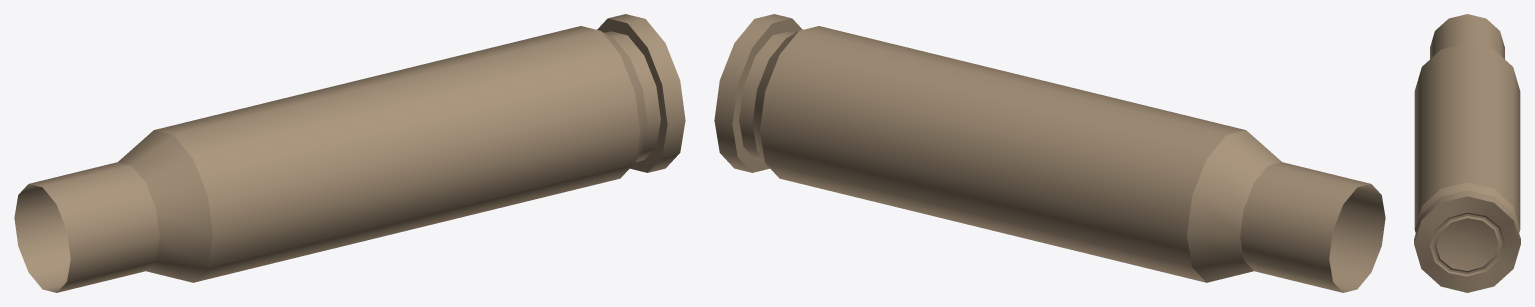
File: Scar_EmptyShell.fbx
3 views of the same model, side by side, from view 1: azimuth 30°, elevation 25°; view 2: azimuth 150°, elevation 25°; view 3: azimuth 270°, elevation 25° (orthographic). The views are drawn at different scales.
Parts seen in each view (by area): view 1: polySurface1743; view 2: polySurface1743; view 3: polySurface1743.
Boxes of the visible parts, left/top/right/bottom form: polySurface1743: left=14, top=14, right=685, bottom=292; polySurface1743: left=714, top=14, right=1385, bottom=292; polySurface1743: left=1414, top=14, right=1520, bottom=292.
Size of the model in its own units: 3.17 by 0.7219 by 0.7219.
